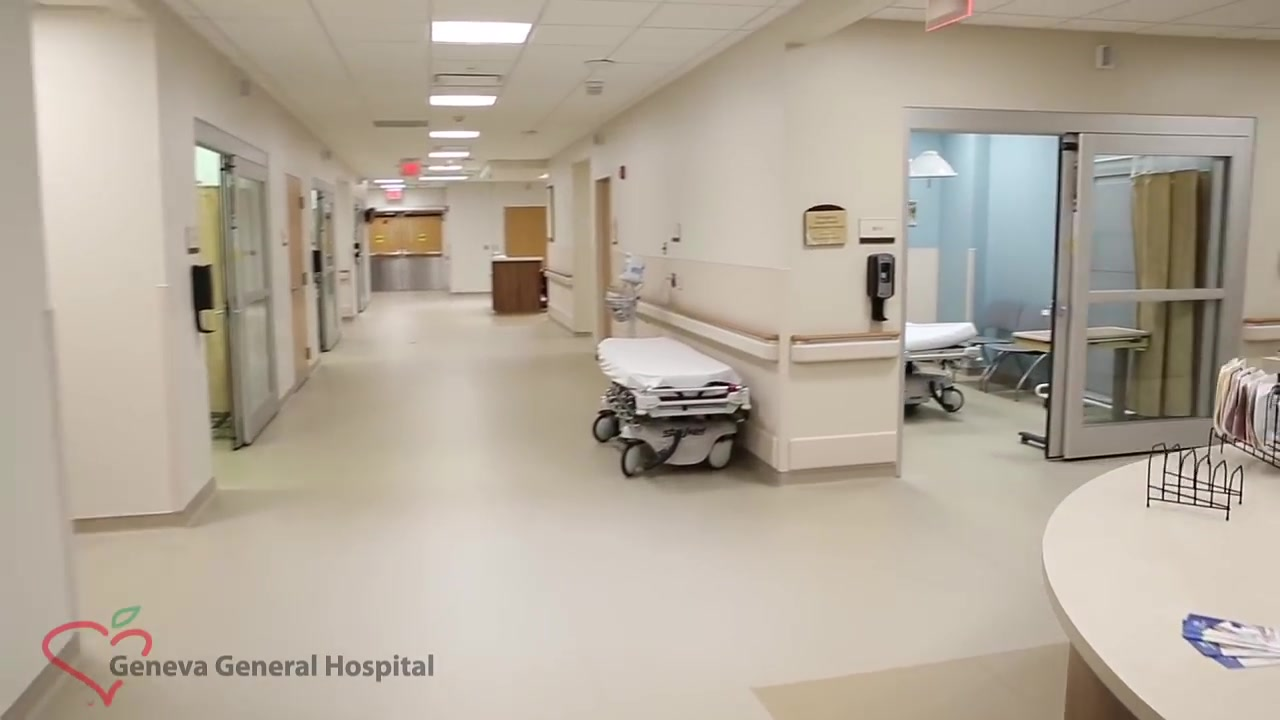chair: (967, 287, 1019, 380), (1012, 297, 1054, 401)
counter: (493, 256, 542, 317)
countertop: (1040, 441, 1280, 720)
curtain: (1125, 158, 1234, 415)
dispenser: (186, 264, 222, 335), (866, 253, 894, 322)
hallway_assist_bar: (604, 291, 786, 362), (783, 336, 908, 363), (543, 271, 576, 288)
hospital_bed: (594, 336, 750, 477), (906, 319, 983, 419)
table: (1015, 326, 1150, 421)
